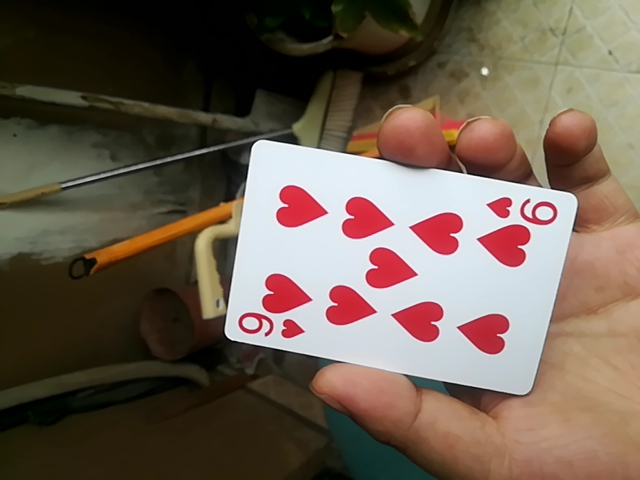hx 9: (216, 135, 575, 396)
